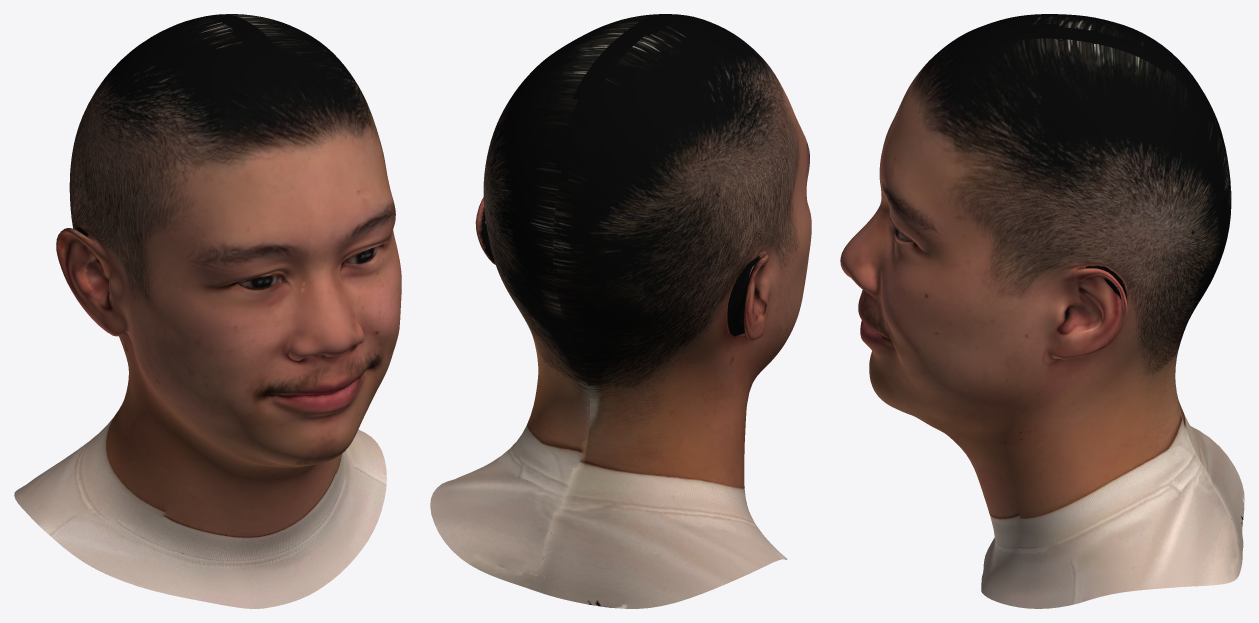
File: tar.gltf
3 views of the same model, side by side, from view 1: azimuth 30°, elevation 25°; view 2: azimuth 150°, elevation 25°; view 3: azimuth 270°, elevation 25° (orthographic). The views are drawn at different scales.
Visible parts, largest first — view 1: FBHead; view 2: FBHead; view 3: FBHead.
Boxes of the visible parts, bbox=[...] form: FBHead: bbox=[14, 14, 401, 608]; FBHead: bbox=[430, 14, 811, 608]; FBHead: bbox=[840, 14, 1244, 608].
Bounding box in the file's own units: 1.63 × 2.5 × 1.66.
Materials: 1 (1 with a texture image).
